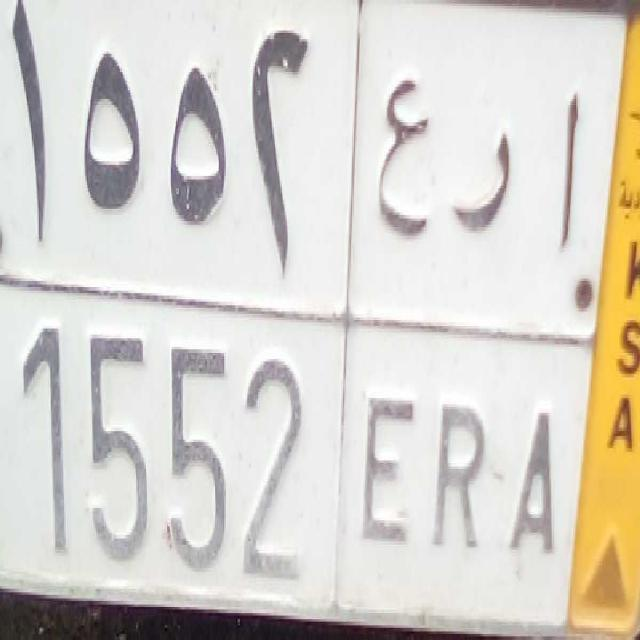license_plate: (0, 283, 579, 640)
